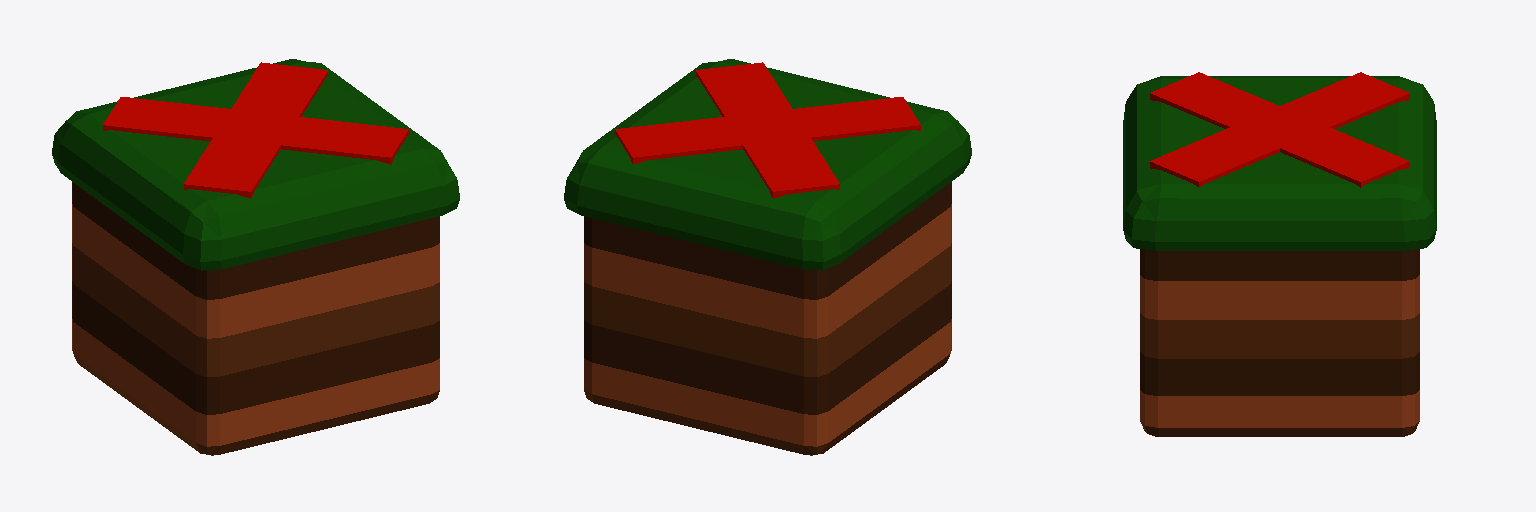
Rendered from XDarkGrass.obj.
3 views of the same model, side by side, from view 1: azimuth 30°, elevation 25°; view 2: azimuth 150°, elevation 25°; view 3: azimuth 270°, elevation 25° (orthographic).
Visible parts, largest first — view 1: Cube_Grass_Single_Cube.276; view 2: Cube_Grass_Single_Cube.276; view 3: Cube_Grass_Single_Cube.276.
Boxes of the visible parts, <box> form: Cube_Grass_Single_Cube.276: <box>52,59,459,455</box>; Cube_Grass_Single_Cube.276: <box>564,59,971,455</box>; Cube_Grass_Single_Cube.276: <box>1123,72,1436,436</box>.
Size of the model in its own units: 1.12 by 1.01 by 1.12.